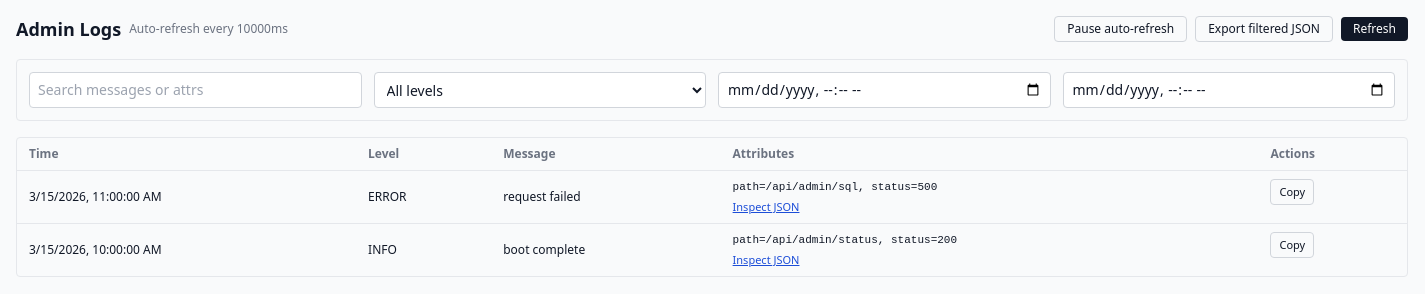
AdminLogs › applies local search/level/time filters without refetching
In the field named "Search logs": (195, 90) [29,72,362,108], type "request"
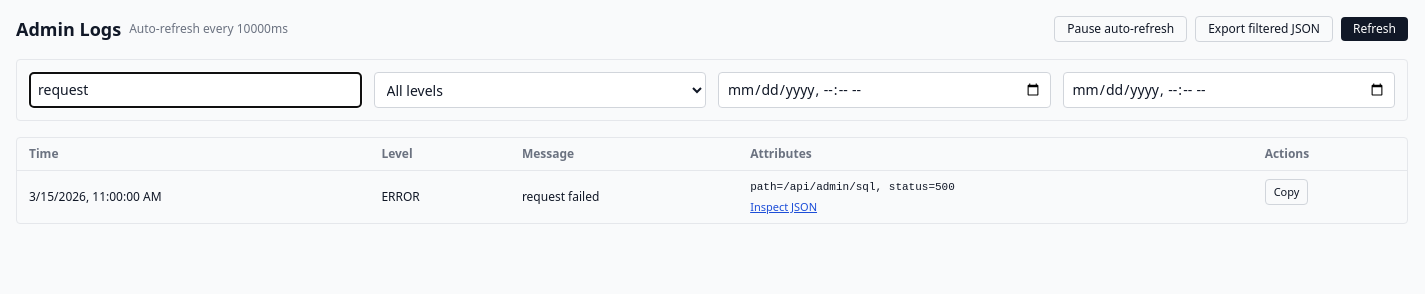
Expected: the text "request failed" is shown, [510,170,738,223]
Expected: the text "boot complete" is gone
Select "ERROR" in the dropdown named "Level": (540, 90) [374,72,706,108]
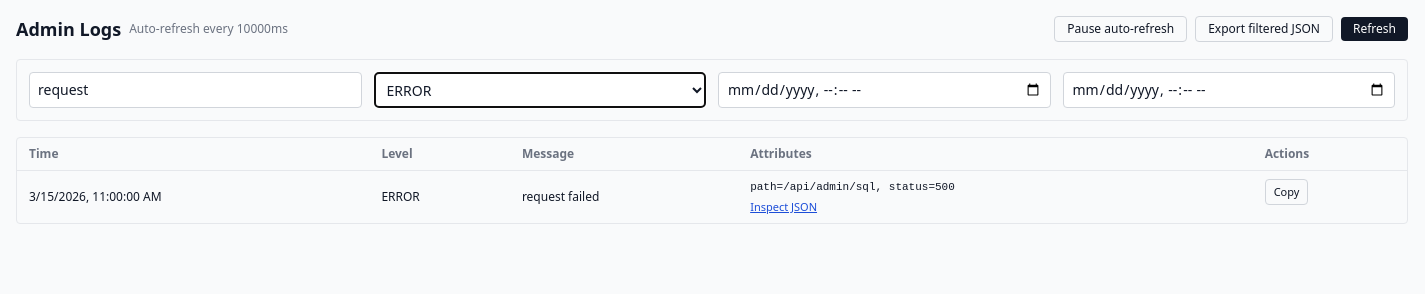
Expected: the text "boot complete" is not shown
In the field named "From": (884, 90) [718,72,1050,108], type "2026-03-15T11:00"
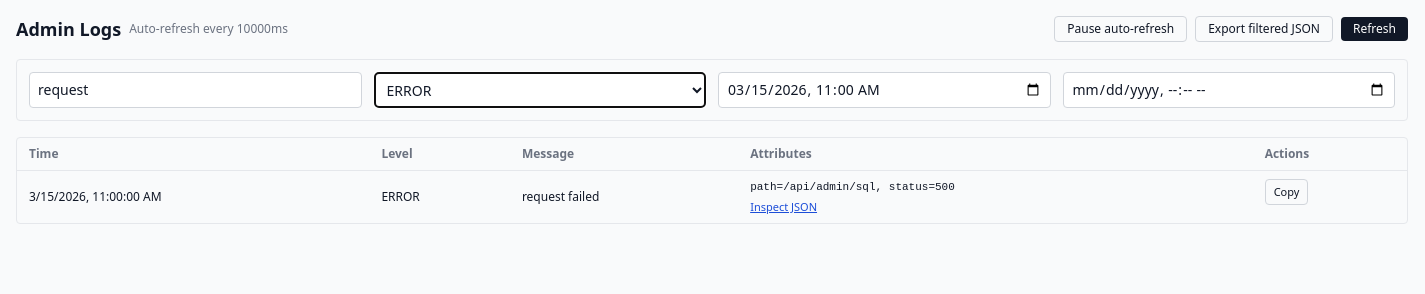
Expected: the text "request failed" is shown, [510,170,738,223]
In the field named "To": (1229, 90) [1062,72,1395,108], type "2026-03-15T10:00"
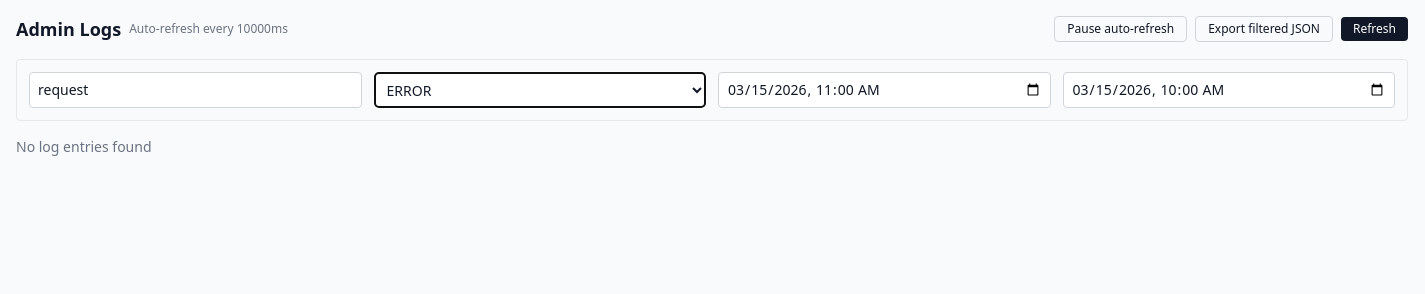
Expected: the text "request failed" is gone
Expected: the text "No log entries found" is shown, [16,137,152,156]
